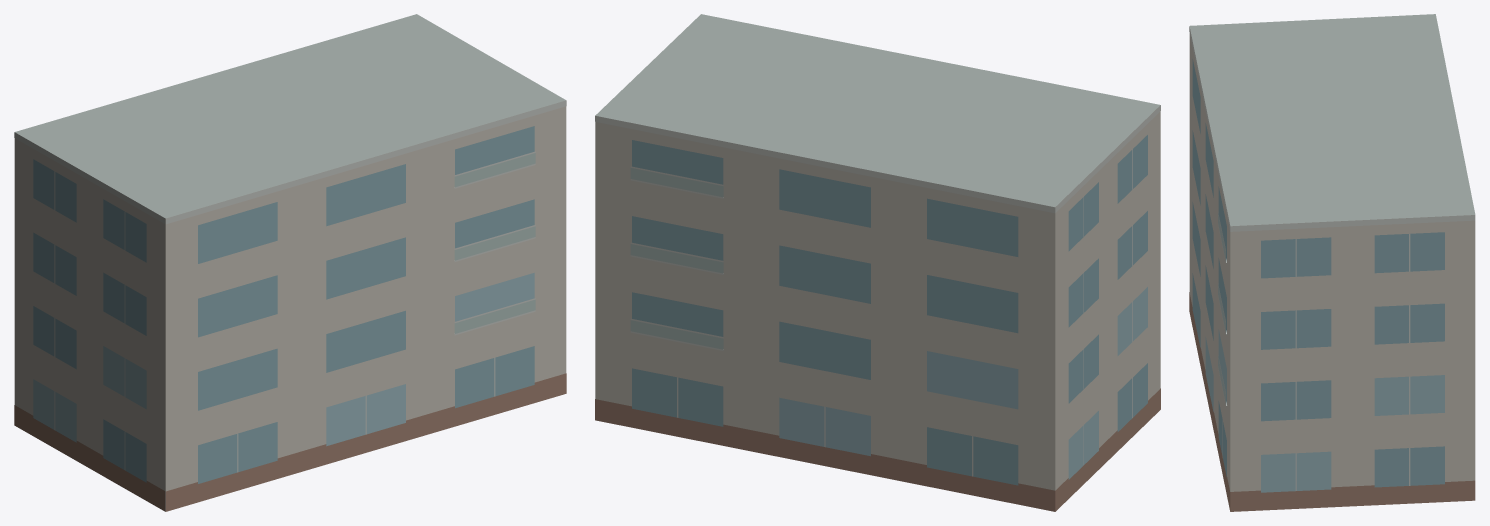
Rendered from survey-upis-32991457.glb.
3 renders of one model, left to right at view 1: azimuth 30°, elevation 25°; view 2: azimuth 150°, elevation 25°; view 3: azimuth 270°, elevation 25°, orthographic. The views are drawn at different scales.
Visible parts, largest first — view 1: survey-upis-32991457.tmp; view 2: survey-upis-32991457.tmp; view 3: survey-upis-32991457.tmp.
Boxes of the visible parts, x1,y1,x2,y2 form: survey-upis-32991457.tmp: [14, 14, 566, 511]; survey-upis-32991457.tmp: [595, 14, 1160, 511]; survey-upis-32991457.tmp: [1189, 14, 1475, 511].
Size of the model in its own units: 19.45 by 12.2 by 11.08.
